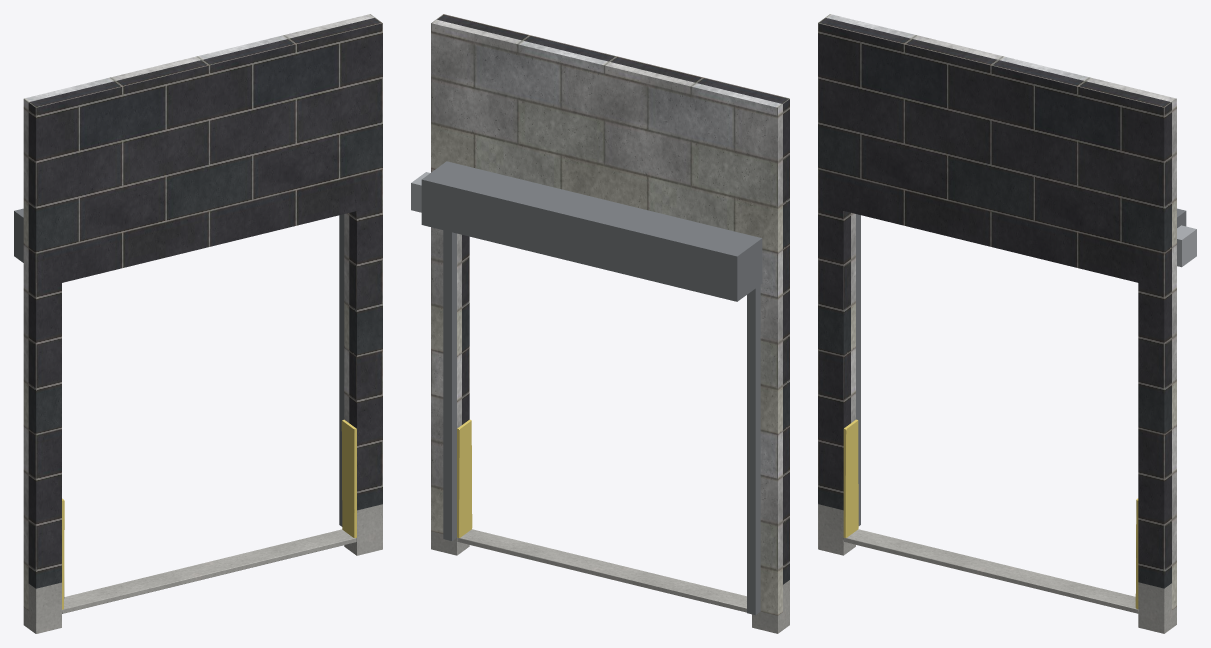
Rendered from k_bay.glb.
3 views of the same model, side by side, from view 1: azimuth 30°, elevation 25°; view 2: azimuth 150°, elevation 25°; view 3: azimuth 330°, elevation 25° (orthographic).
Visible parts, largest first — view 1: k_bay_block_d, k_bay_concrete, k_bay_block_l, k_bay_steel_d, k_bay_paint_y; view 2: k_bay_block_l, k_bay_steel_d, k_bay_block_d, k_bay_concrete, k_bay_paint_y; view 3: k_bay_block_d, k_bay_concrete, k_bay_block_l, k_bay_paint_y, k_bay_steel_d, k_bay_steel.
Part boxes in pixels (<box>): k_bay_block_d: <box>28,17,382,588</box>; k_bay_concrete: <box>23,504,382,633</box>; k_bay_block_l: <box>23,14,374,610</box>; k_bay_steel_d: <box>14,208,344,526</box>; k_bay_paint_y: <box>62,419,356,609</box>; k_bay_block_l: <box>431,19,782,615</box>; k_bay_steel_d: <box>421,161,762,615</box>; k_bay_block_d: <box>436,14,789,584</box>; k_bay_concrete: <box>431,529,789,633</box>; k_bay_paint_y: <box>457,419,472,537</box>; k_bay_block_d: <box>818,17,1171,588</box>; k_bay_concrete: <box>818,504,1176,633</box>; k_bay_block_l: <box>825,14,1176,609</box>; k_bay_paint_y: <box>843,419,1138,609</box>; k_bay_steel_d: <box>856,208,1186,525</box>; k_bay_steel: <box>1177,225,1196,267</box>.
Bounding box in the file's own units: 4 × 5.8 × 0.75.
6 materials, 3 textured.
